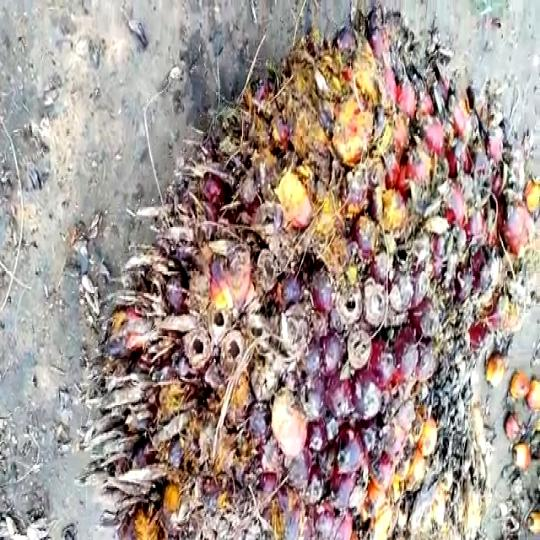masak: (102, 21, 540, 540)
